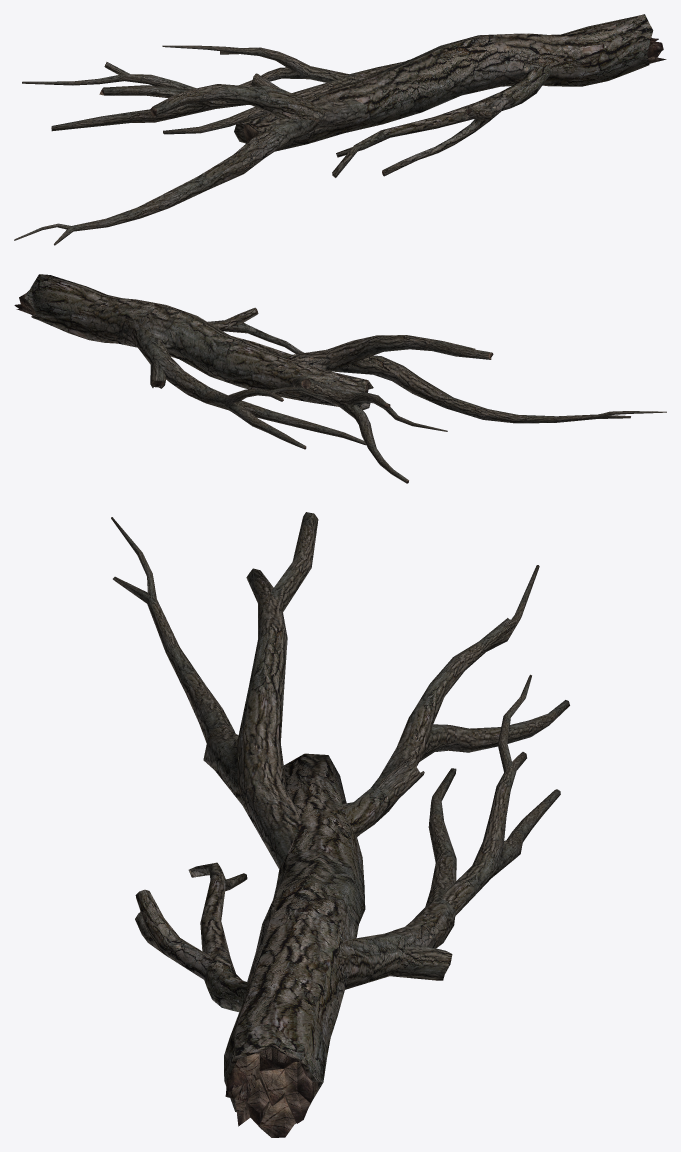
File: trees_drop_2_02_2.fbx
3 renders of one model, top to bottom at view 1: azimuth 30°, elevation 25°; view 2: azimuth 150°, elevation 25°; view 3: azimuth 270°, elevation 25°, orthographic. The views are drawn at different scales.
Visible parts, largest first — view 1: trees_drop_2_02_1; view 2: trees_drop_2_02_1; view 3: trees_drop_2_02_1.
Boxes of the visible parts, x1=… form: trees_drop_2_02_1: x1=14, y1=14, x2=666, y2=245; trees_drop_2_02_1: x1=14, y1=274, x2=666, y2=483; trees_drop_2_02_1: x1=111, y1=512, x2=569, y2=1137.
Size of the model in its own units: 1491 by 231 by 488.
